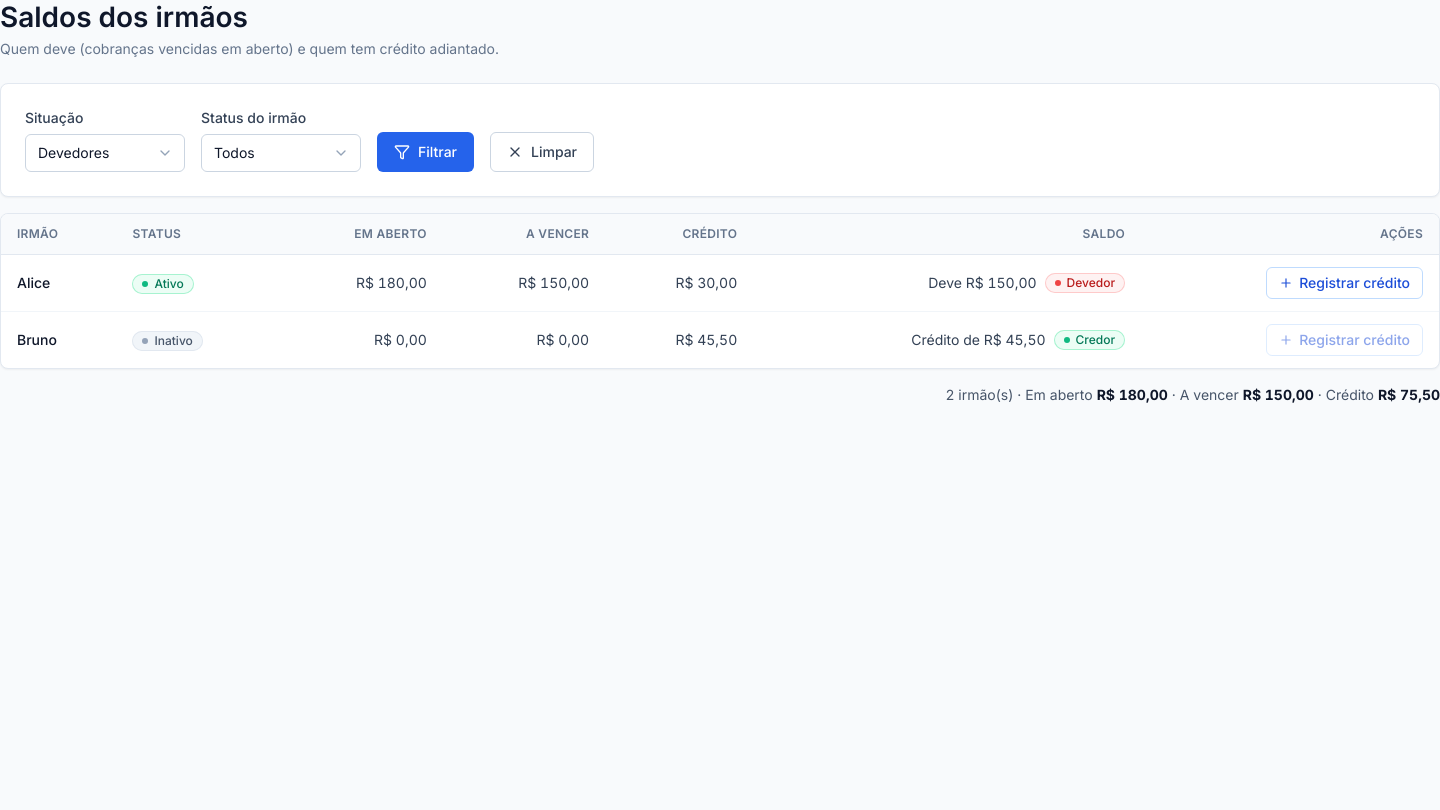
Test: SaldosPage › registrar crédito pela linha › registra para o irmão certo, fecha, avisa e recarrega a linha e os totais
Check: the link "Alice" is shown, box x1=17 y1=274 x2=50 y2=291
Click the button with aria-label "Registrar crédito para Alice": (1345, 283) x1=1266 y1=267 x2=1423 y2=299
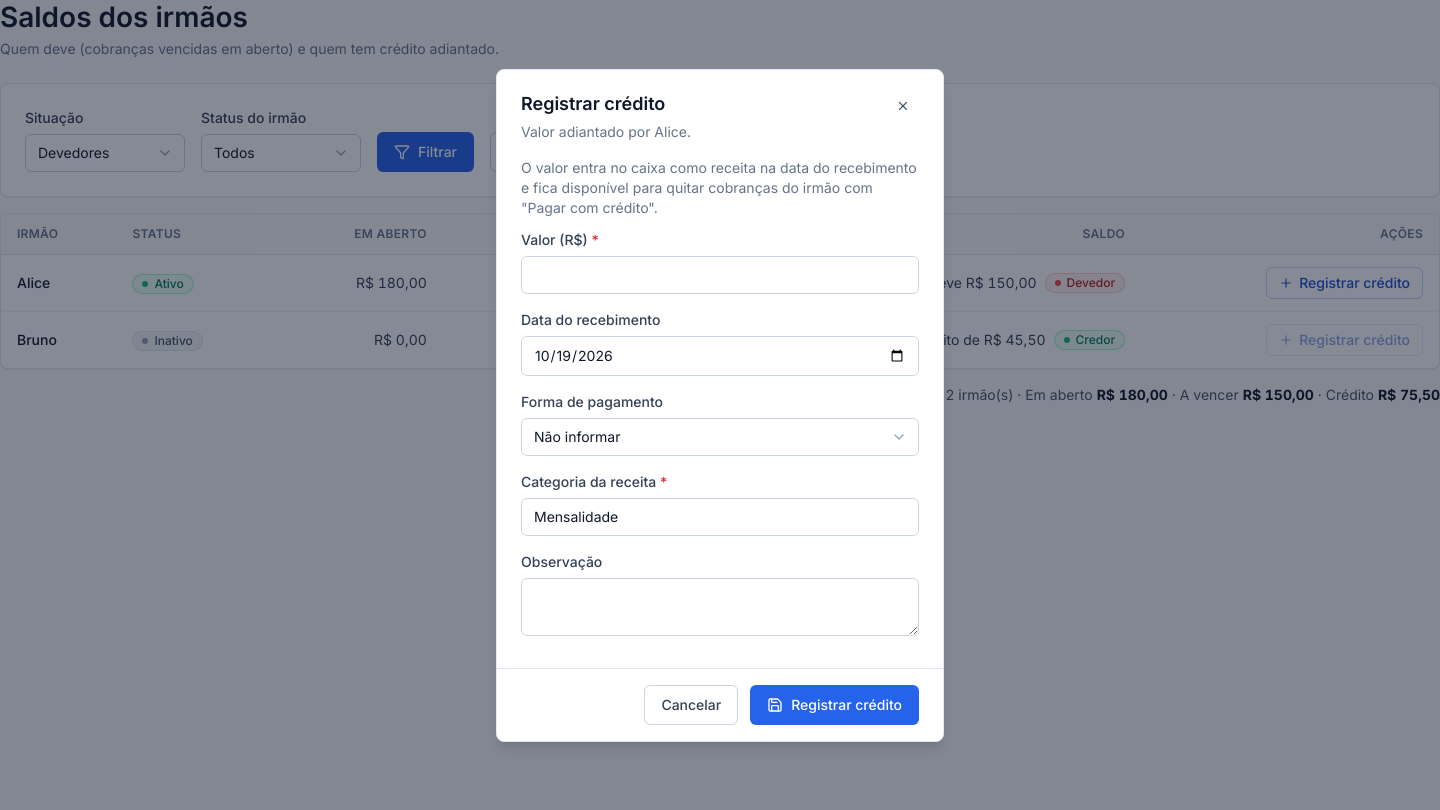
In the number field labelled "Valor (R$) *": (720, 274) x1=521 y1=256 x2=919 y2=294, type "100"
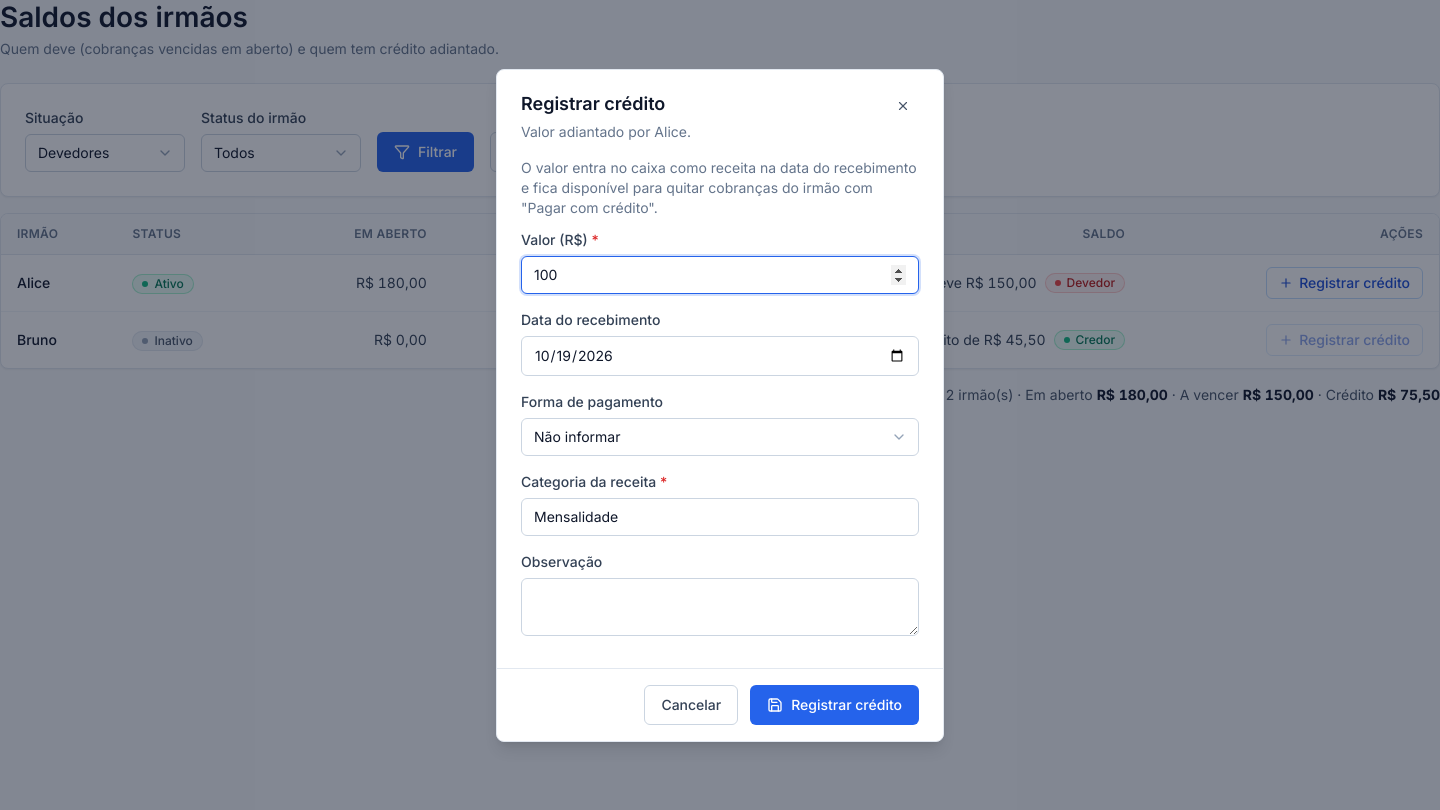
Click the button "Registrar crédito": (835, 704) x1=750 y1=684 x2=919 y2=724
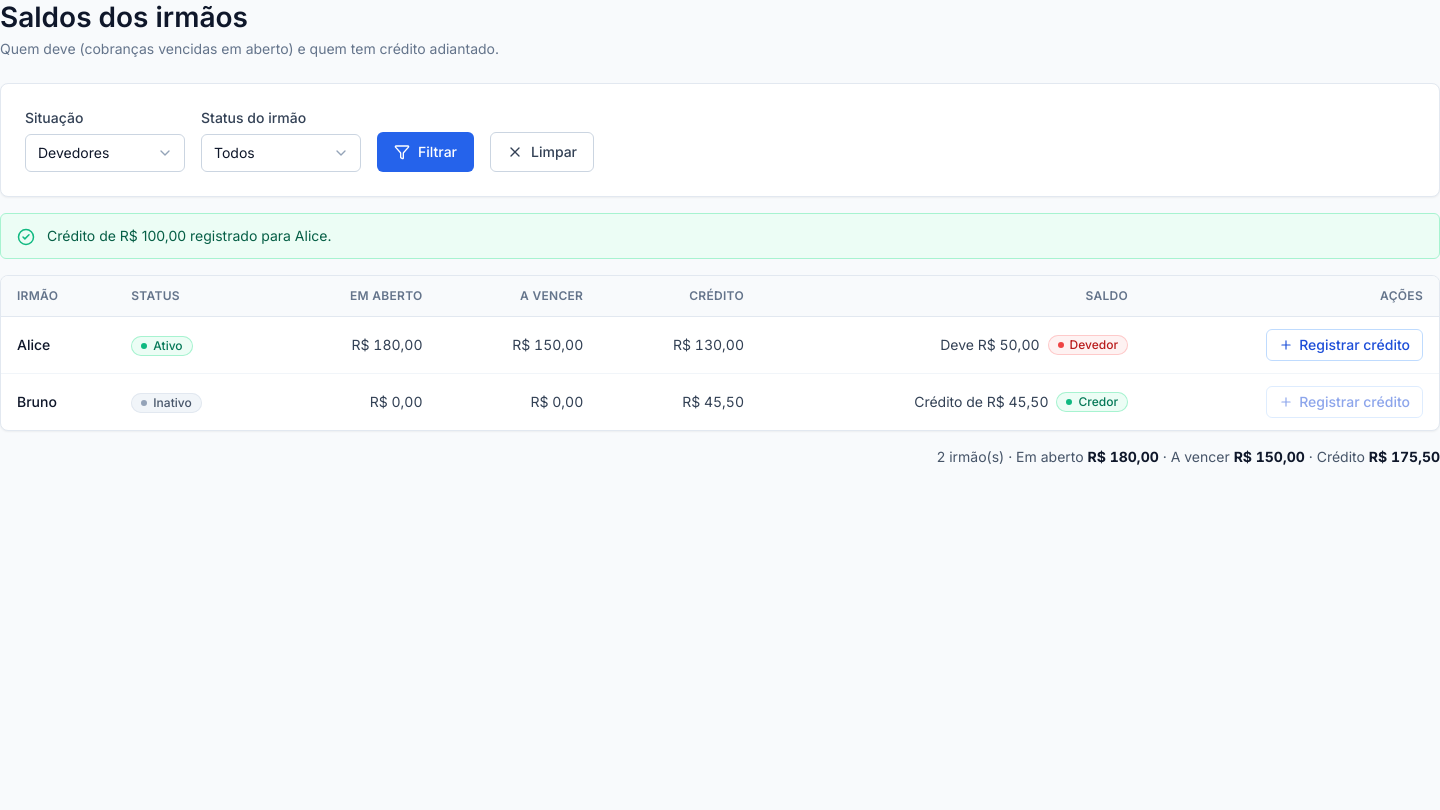
Check: the text "Crédito de R$ 100,00 registrado para Alice." is shown, box x1=47 y1=226 x2=332 y2=246
Check: the dialog is gone
Check: the text "R$ 130,00" is shown, box x1=599 y1=316 x2=760 y2=374
